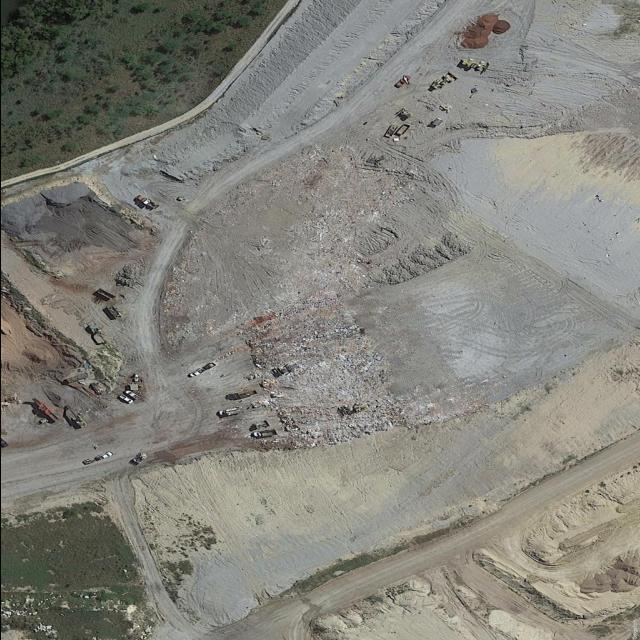dump_site: (232, 283, 409, 449)
